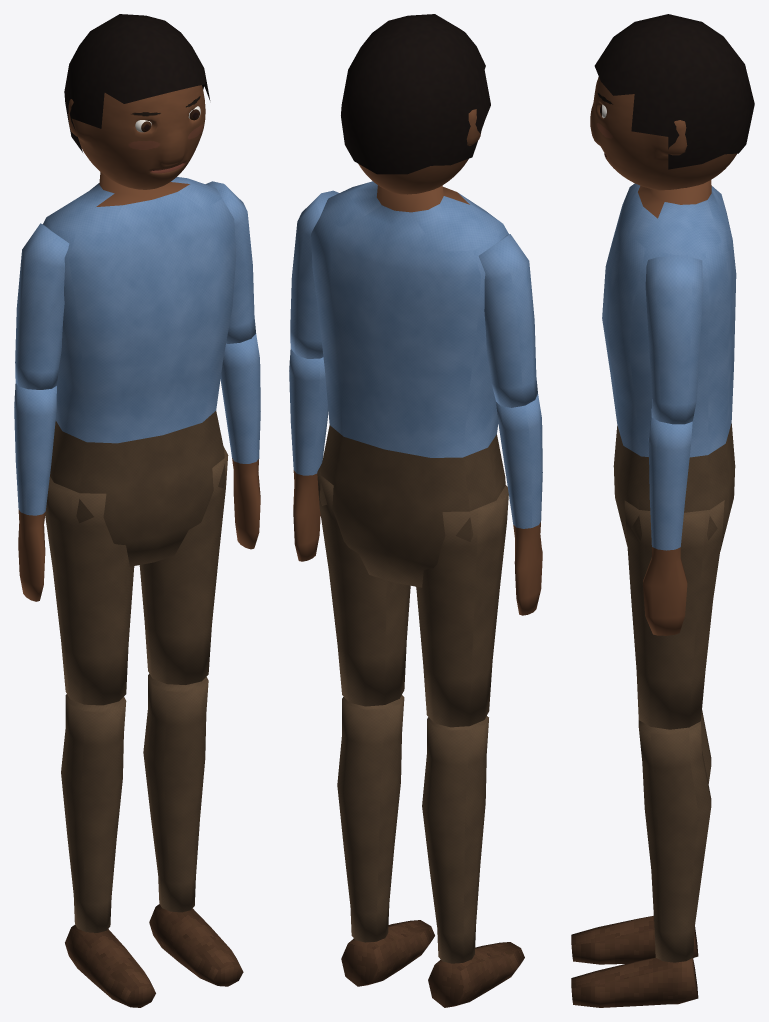
The model's file is persona_nino_b.obj.
3 renders of one model, left to right at view 1: azimuth 30°, elevation 25°; view 2: azimuth 150°, elevation 25°; view 3: azimuth 270°, elevation 25°, orthographic. The views are drawn at different scales.
Visible parts, largest first — view 1: Torso, PiernaIzq, PiernaDer, MusloDer, MusloIzq, Pelo, Cabeza, BrazoDer, AntebrazoDer, AntebrazoIzq, BrazoIzq; view 2: Torso, Pelo, PiernaDer, PiernaIzq, MusloDer, MusloIzq, BrazoDer, AntebrazoDer, AntebrazoIzq, BrazoIzq, Cabeza; view 3: Torso, PiernaIzq, Pelo, MusloIzq, BrazoIzq, AntebrazoIzq, Cabeza, PiernaDer.
Boxes of the visible parts, x1,y1,x2,y2 form: Torso: (43, 172, 236, 566); PiernaIzq: (143, 673, 243, 986); PiernaDer: (61, 694, 155, 1007); MusloDer: (45, 476, 134, 705); MusloIzq: (139, 446, 228, 684); Pelo: (64, 14, 210, 152); Cabeza: (68, 85, 205, 189); BrazoDer: (15, 223, 69, 389); AntebrazoDer: (14, 383, 56, 601); AntebrazoIzq: (220, 334, 260, 549); BrazoIzq: (205, 181, 256, 343); Torso: (311, 181, 508, 587); Pelo: (341, 14, 490, 174); PiernaDer: (422, 716, 524, 1007); PiernaIzq: (337, 695, 434, 986); MusloDer: (416, 485, 508, 727); MusloIzq: (317, 464, 410, 706); BrazoDer: (478, 234, 537, 407); AntebrazoDer: (496, 394, 542, 615); AntebrazoIzq: (289, 349, 328, 561); BrazoIzq: (290, 190, 339, 358); Cabeza: (358, 109, 481, 194); Torso: (602, 180, 736, 551); PiernaIzq: (571, 720, 711, 1007); Pelo: (594, 14, 754, 169); MusloIzq: (624, 500, 724, 729); BrazoIzq: (645, 256, 703, 424); AntebrazoIzq: (643, 415, 692, 635); Cabeza: (590, 76, 736, 190); PiernaDer: (571, 710, 711, 964).
Size of the model in its own units: 0.3194 by 1.2 by 0.2075.
Materials: 10 (10 with a texture image).
